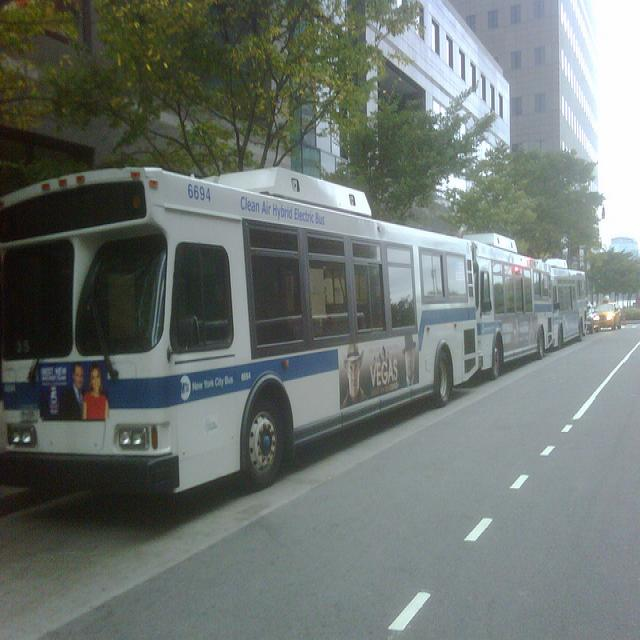Vehicle: (1, 164, 591, 499), (595, 302, 621, 331), (587, 306, 600, 334)
